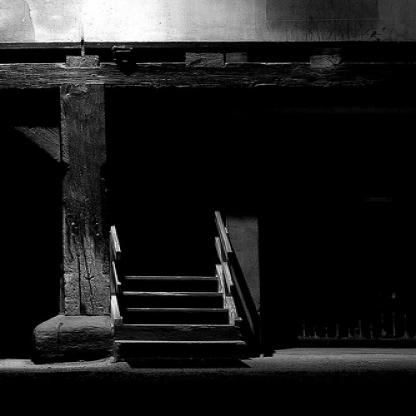stairs: (132, 296, 222, 369)
